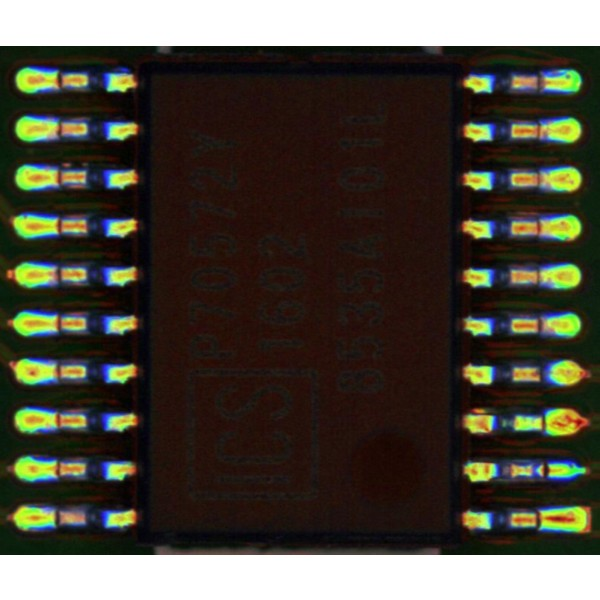Bad_podu: (41, 318, 76, 330), (524, 515, 566, 525), (525, 224, 562, 234), (526, 78, 562, 88), (43, 269, 74, 280), (532, 466, 569, 475), (46, 75, 74, 86), (42, 464, 73, 473)
